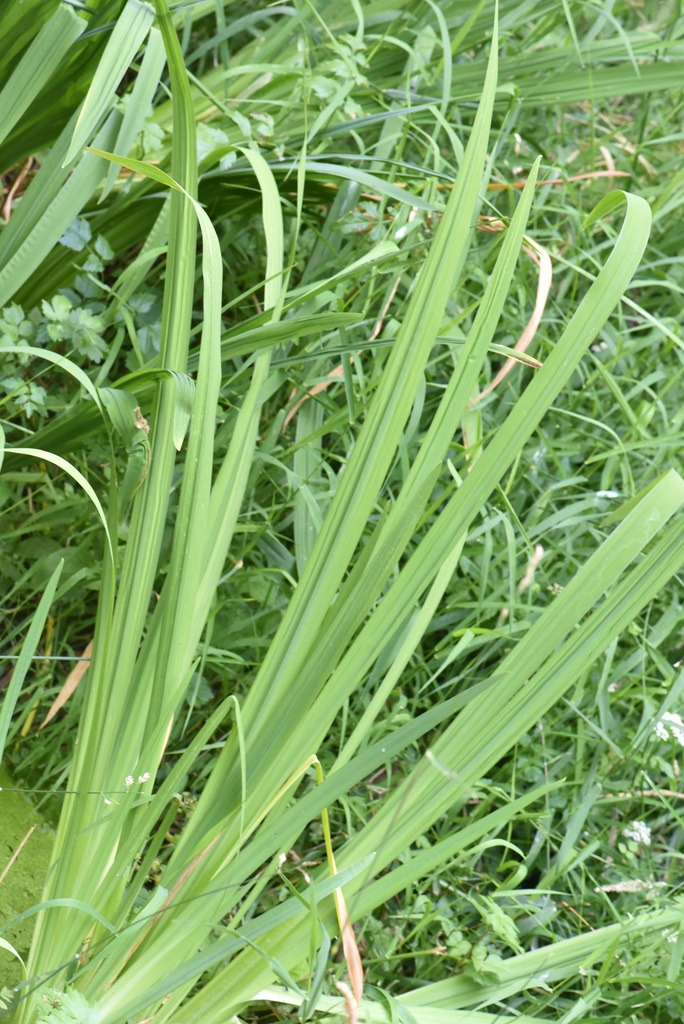yellow flag iris: (2, 3, 683, 1020)
